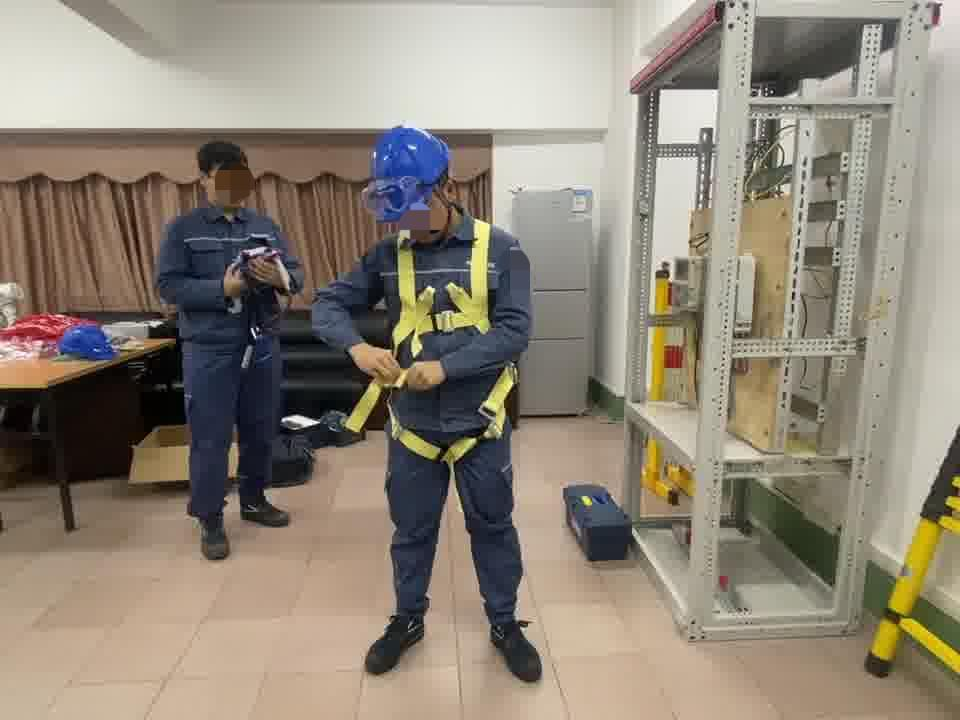halt: (369, 128, 457, 237)
inear: (432, 176, 464, 216)
unhalt: (199, 145, 256, 211)
